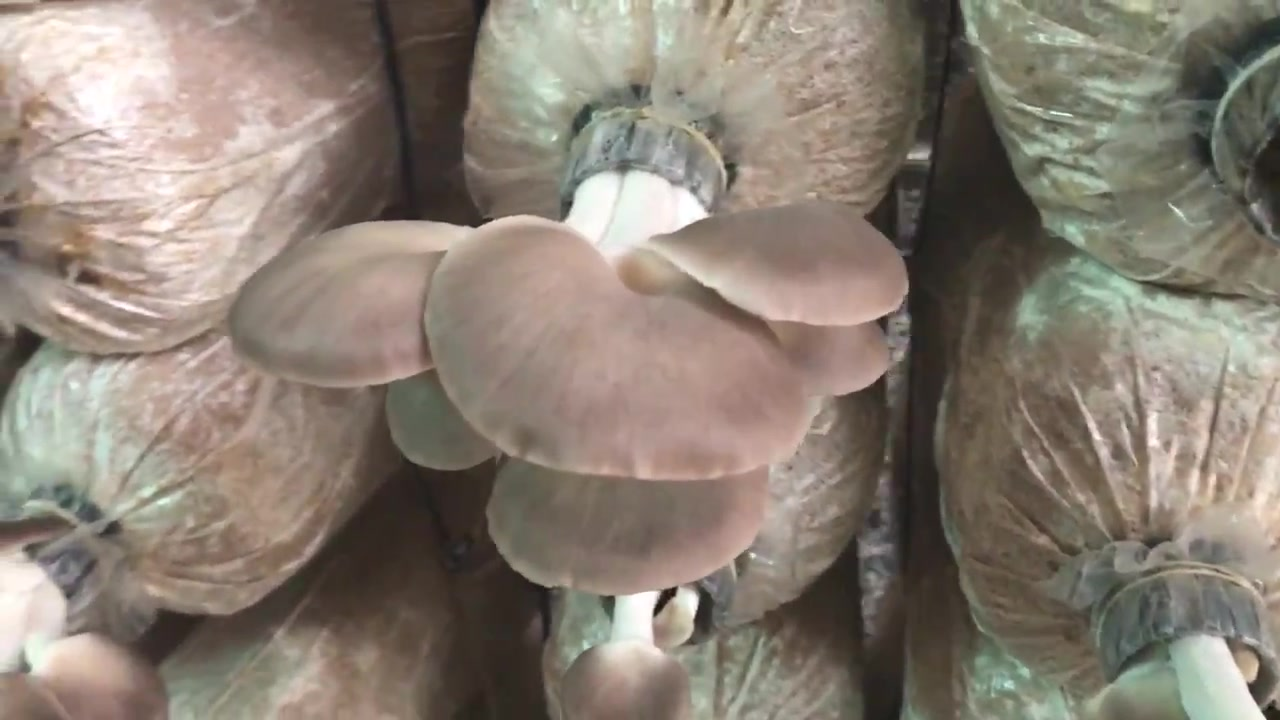nam: (232, 113, 908, 595), (1, 496, 169, 720), (558, 562, 730, 720), (1092, 567, 1268, 720)
